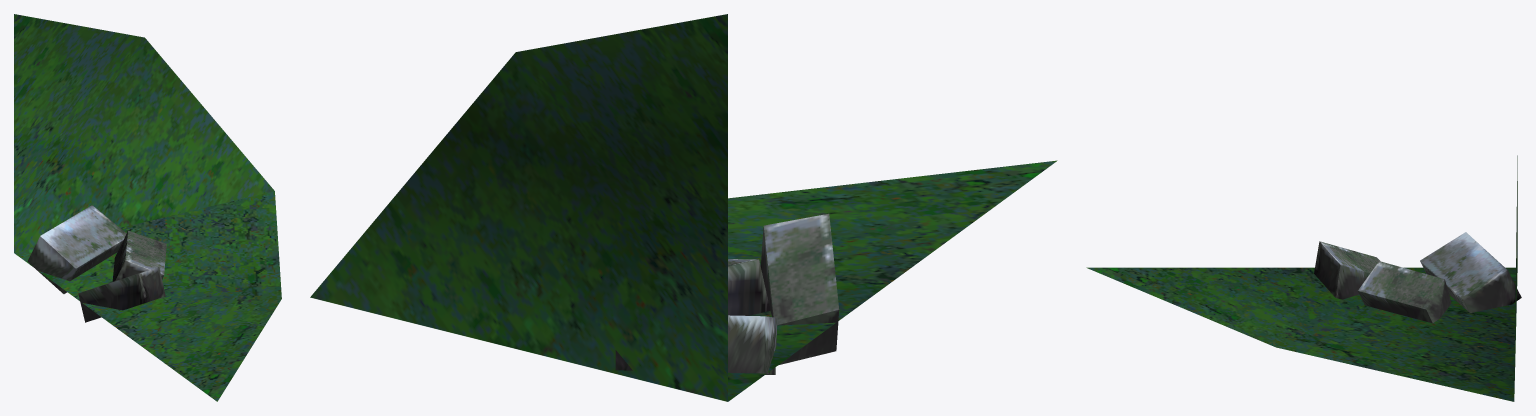
File: stemple_rubble_cap_02.fbx
The picture shows the model from 3 angles, left to right: view 1: azimuth 30°, elevation 25°; view 2: azimuth 150°, elevation 25°; view 3: azimuth 270°, elevation 25°; orthographic projection. The views are drawn at different scales.
Parts seen in each view (by area): view 1: stemple_rubble_cap_02-0; view 2: stemple_rubble_cap_02-0; view 3: stemple_rubble_cap_02-0.
Boxes of the visible parts, x1=… form: stemple_rubble_cap_02-0: x1=14, y1=14, x2=281, y2=401; stemple_rubble_cap_02-0: x1=310, y1=14, x2=1057, y2=401; stemple_rubble_cap_02-0: x1=1086, y1=155, x2=1521, y2=401.
Size of the model in its own units: 2.49 by 2.42 by 3.36.
